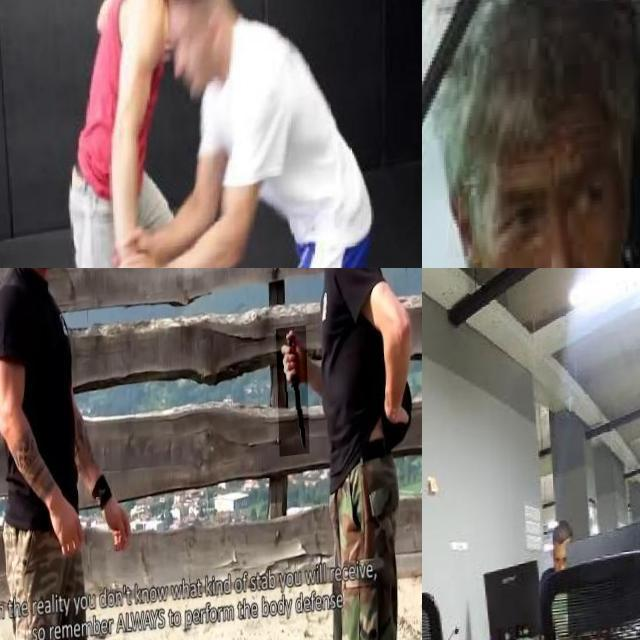-: (274, 336, 308, 466)
